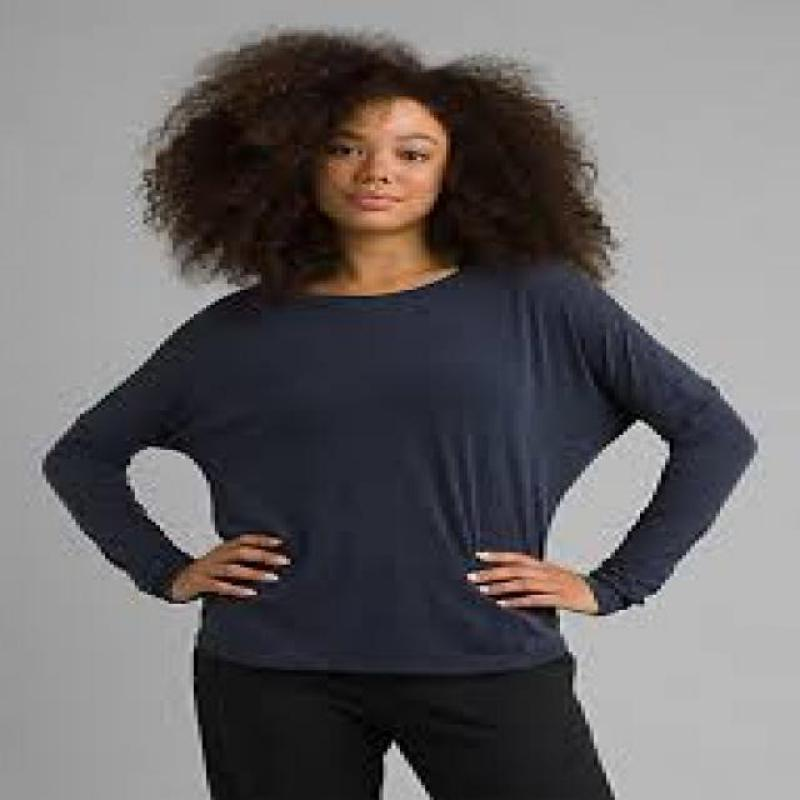long sleeve shirt: (37, 267, 759, 669)
trousers: (190, 655, 618, 800)
